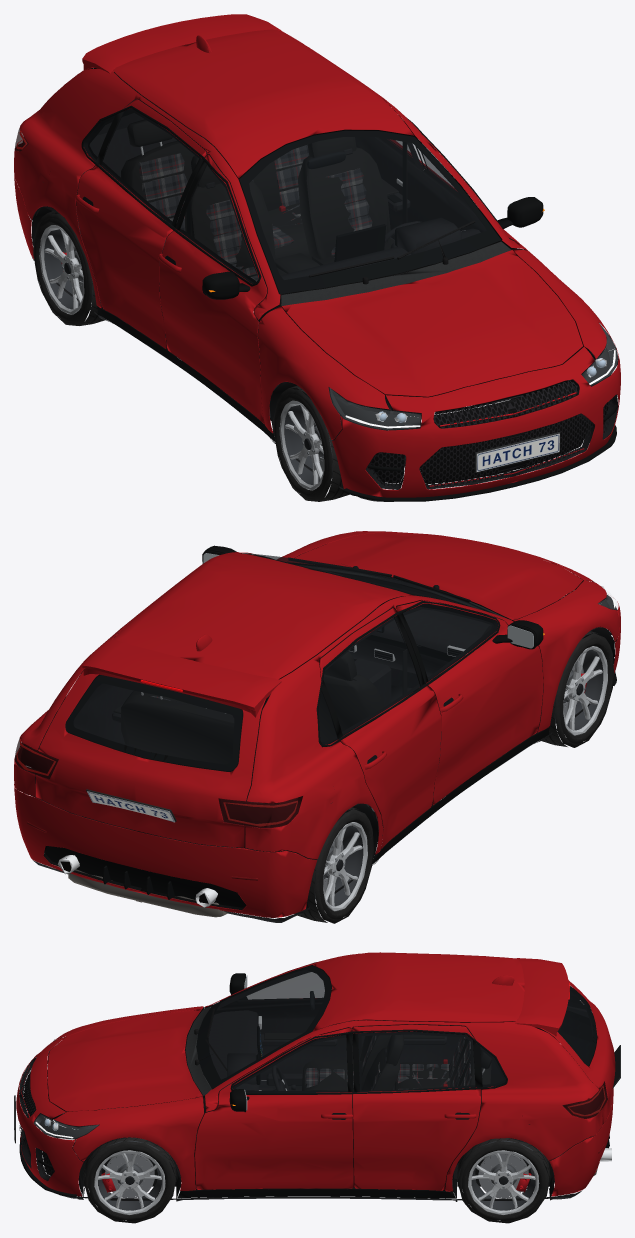
The model's file is hot-hatchback.glb.
The picture shows the model from 3 angles, top to bottom: view 1: azimuth 30°, elevation 25°; view 2: azimuth 150°, elevation 25°; view 3: azimuth 270°, elevation 25°; orthographic projection. The views are drawn at different scales.
Visible parts, largest first — view 1: Body, Wheel_FR, Wheel_RR; view 2: Body, Wheel_RR, Wheel_FR; view 3: Body, Wheel_FL, Wheel_RL.
Part boxes in pixels (x1=…): Body: x1=14, y1=14, x2=620, y2=501; Wheel_FR: x1=273, y1=385, x2=349, y2=501; Wheel_RR: x1=33, y1=211, x2=105, y2=325; Body: x1=14, y1=531, x2=620, y2=922; Wheel_RR: x1=294, y1=807, x2=373, y2=923; Wheel_FR: x1=542, y1=631, x2=614, y2=747; Body: x1=14, y1=952, x2=620, y2=1201; Wheel_FL: x1=83, y1=1137, x2=176, y2=1223; Wheel_RL: x1=457, y1=1138, x2=550, y2=1223.
Bounding box in the file's own units: 2.1 × 1.5 × 4.22.
Materials: 59 (11 with a texture image).
